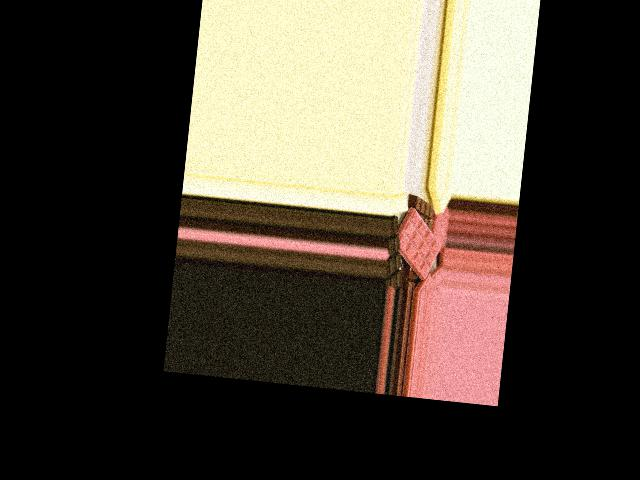chocolate: (384, 206, 446, 282)
